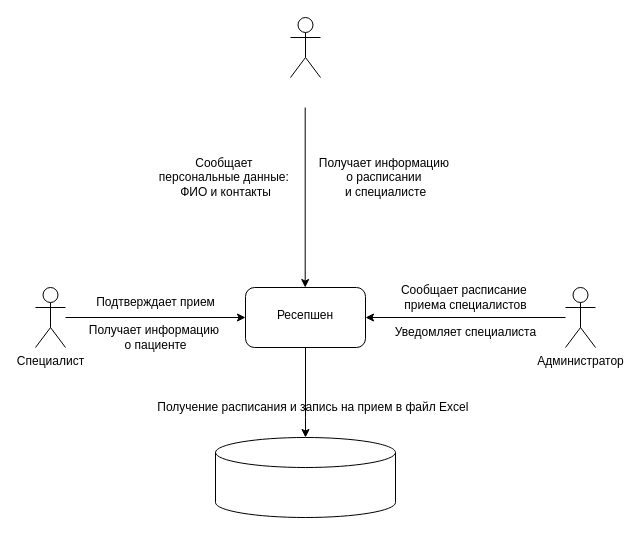
The diagram is 641 pixels wide and 535 high, and some of its shapes have lost their labels. The centre of each missing label's shape, as x and y in pixels:
Пациент: (x=305, y=47)
Файловый сервер: (x=305, y=477)
